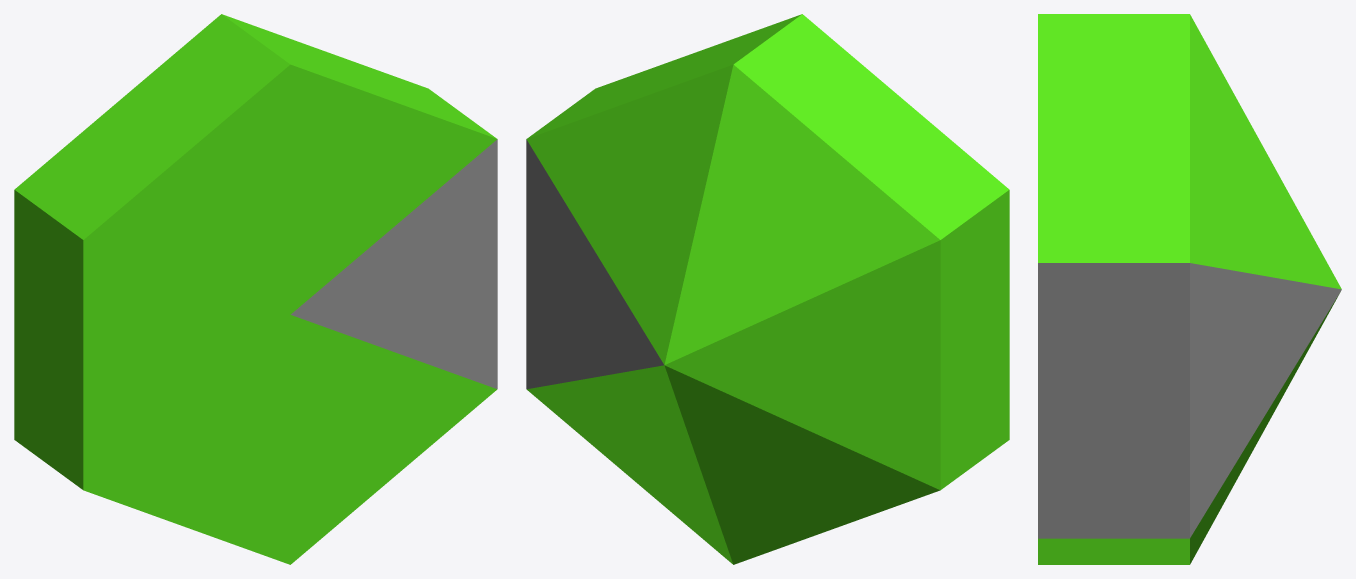
The model's file is hexanode.obj.
3 renders of one model, left to right at view 1: azimuth 30°, elevation 25°; view 2: azimuth 150°, elevation 25°; view 3: azimuth 270°, elevation 25°, orthographic. The views are drawn at different scales.
Visible parts, largest first — view 1: hexanode; view 2: hexanode; view 3: hexanode.
Part boxes in pixels (box(x1,y1,x2,y2)): hexanode: box(14, 14, 497, 564); hexanode: box(526, 14, 1009, 564); hexanode: box(1038, 14, 1341, 564).
Size of the model in its own units: 43.3 by 50 by 25.
